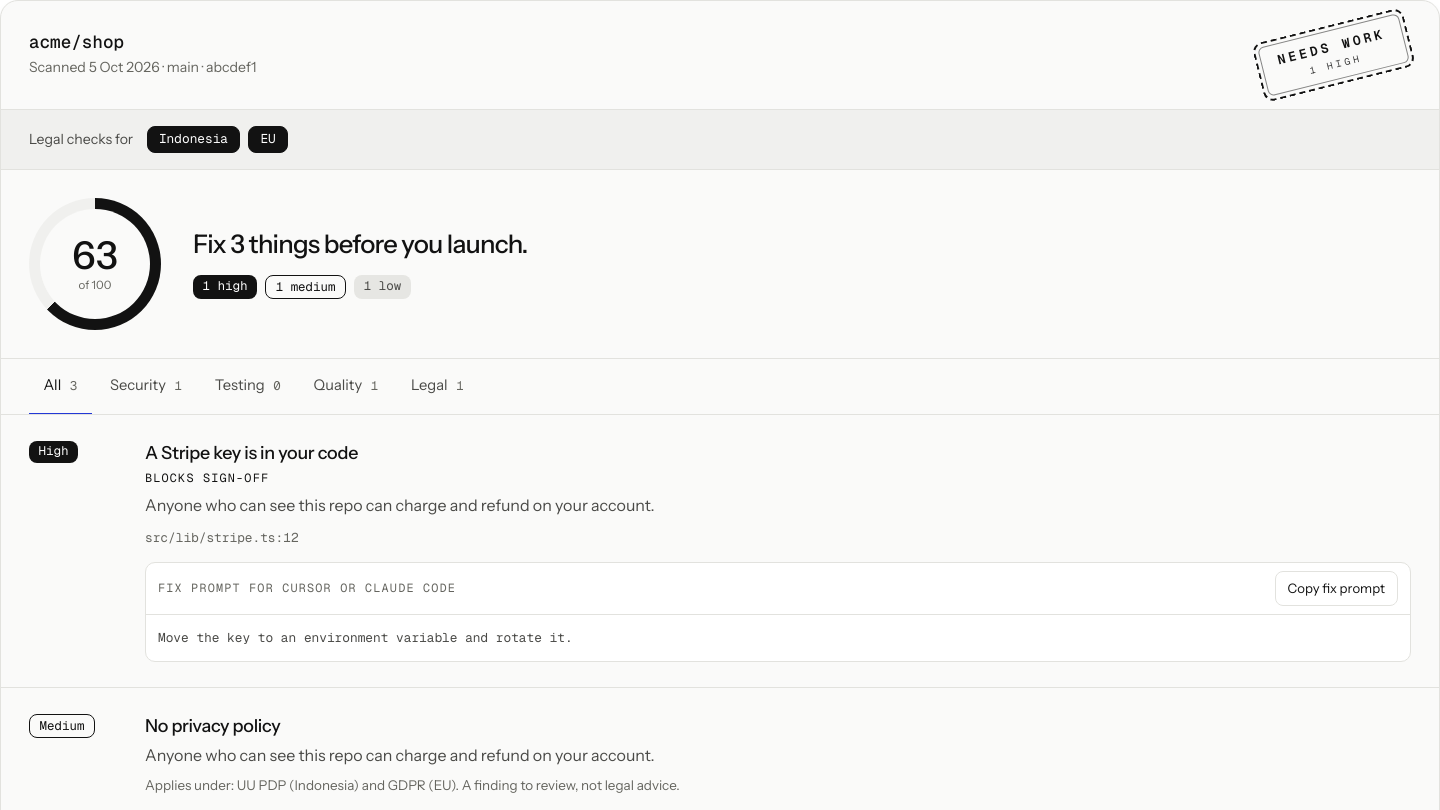
Test: ReportView › says so when a tab is empty, and what was checked
This screenshot has width=1440, height=810.
Click the tab "Testing 0" at (248, 387), box [200, 359, 295, 415]
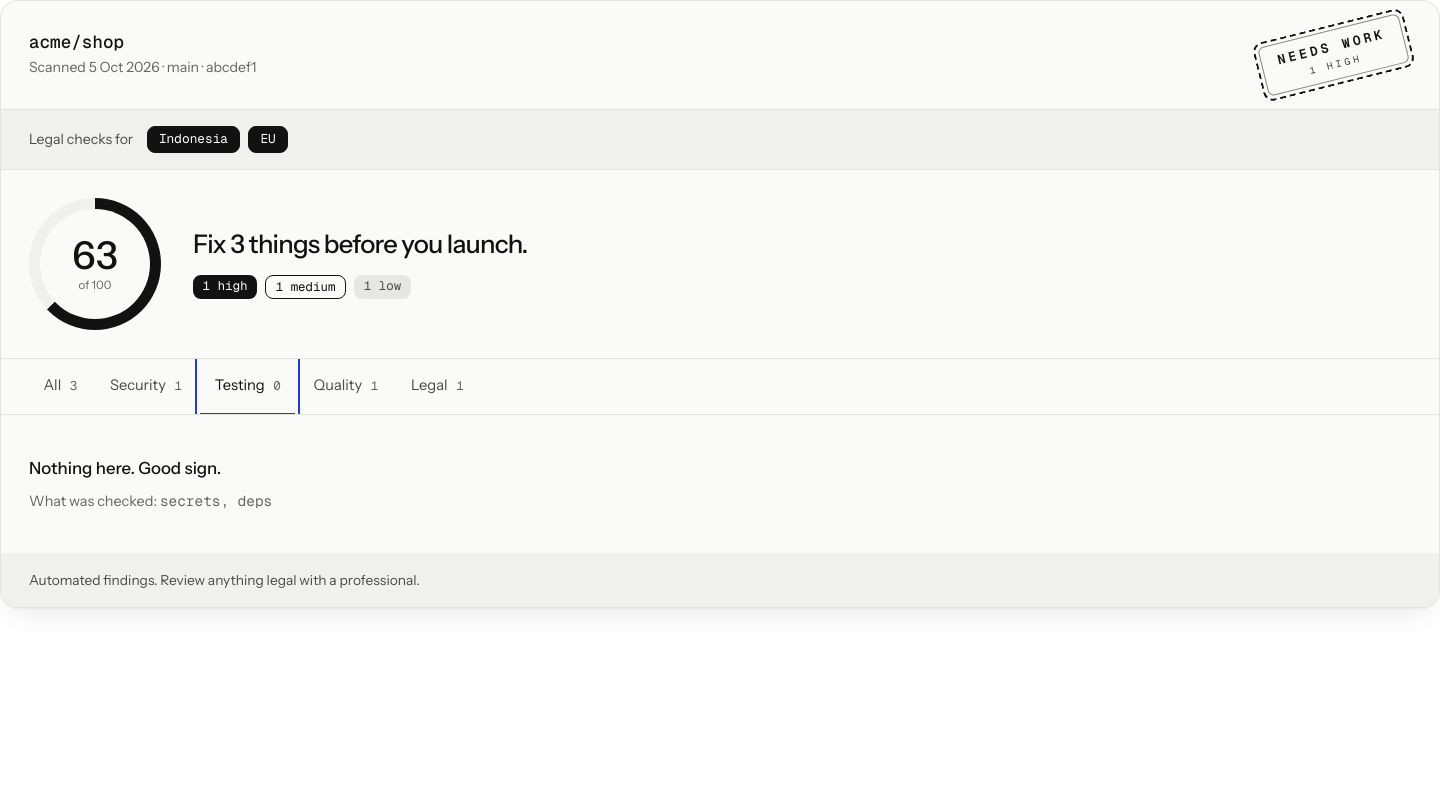
Expected: the text "Nothing here. Good sign." is shown, [29, 458, 221, 478]
Expected: the text "secrets, deps" is shown, [160, 492, 272, 510]
